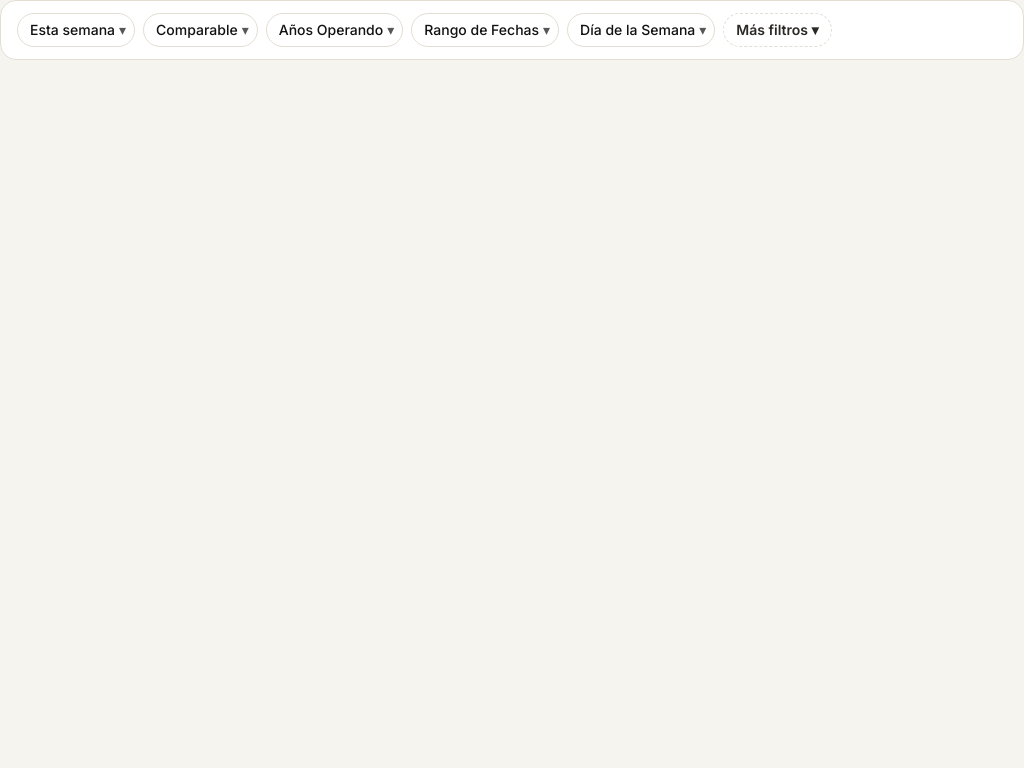
<FiltrosBi> en píldoras › clic fuera cierra el recuadro
Click the button "Comparable ▾": (200, 30) 144,14 -> 257,46
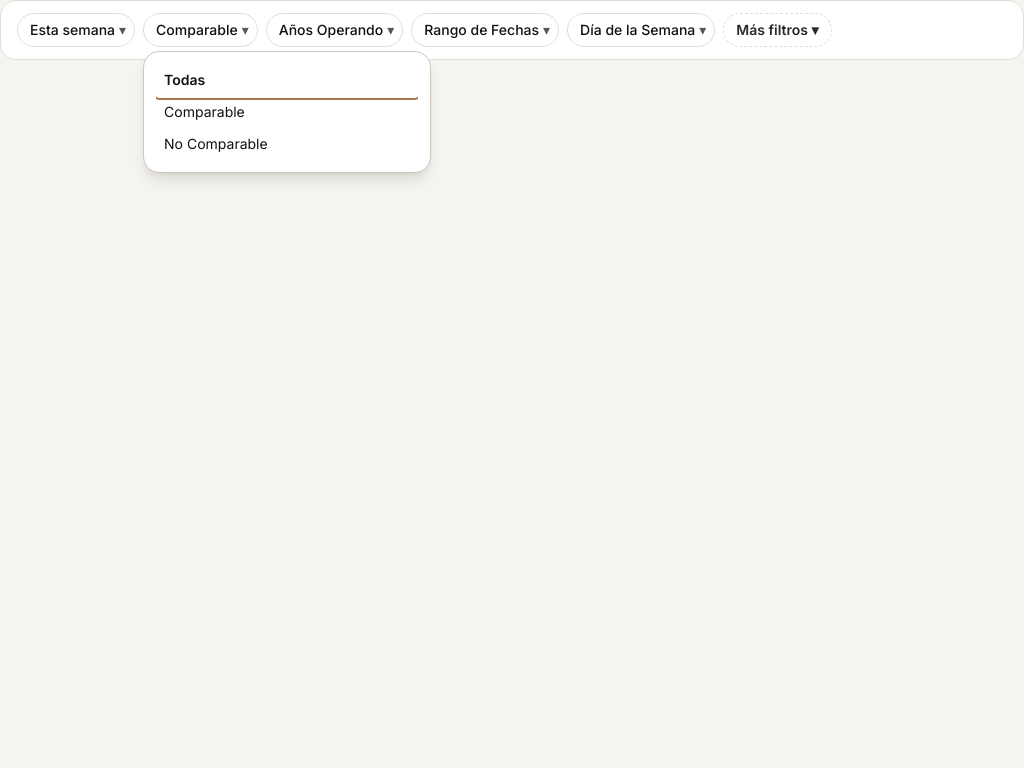
Press the mouse on the element that starts with "Esta semana": (512, 30) 0,0 -> 1023,60
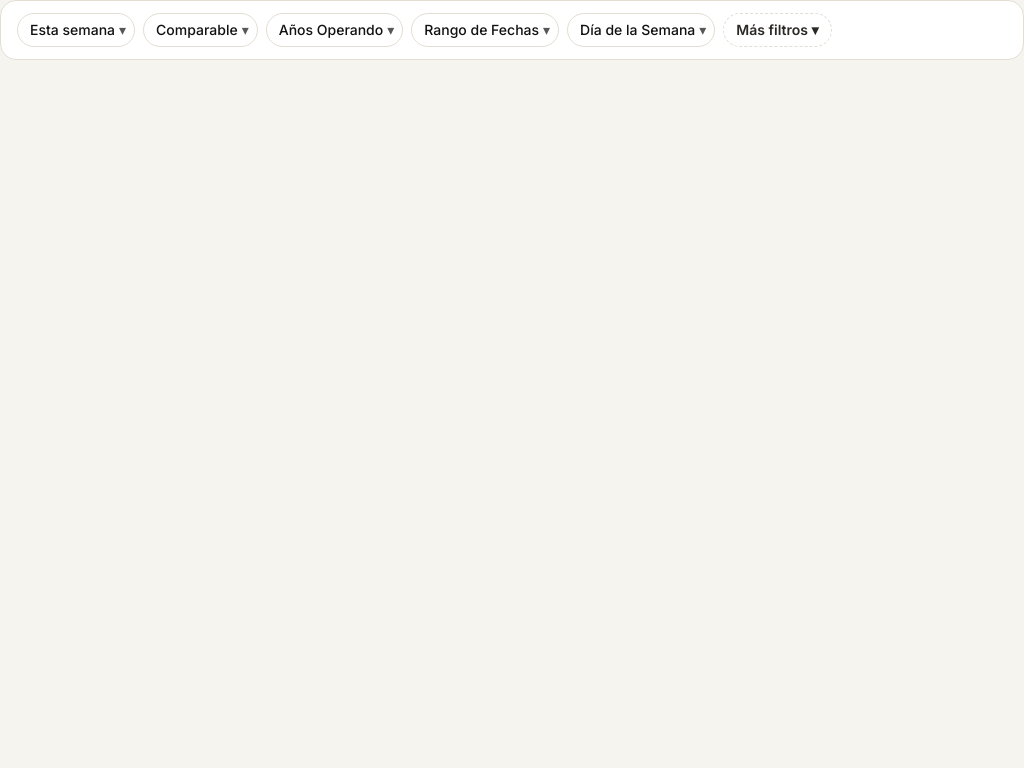
Expected: the dialog is gone
